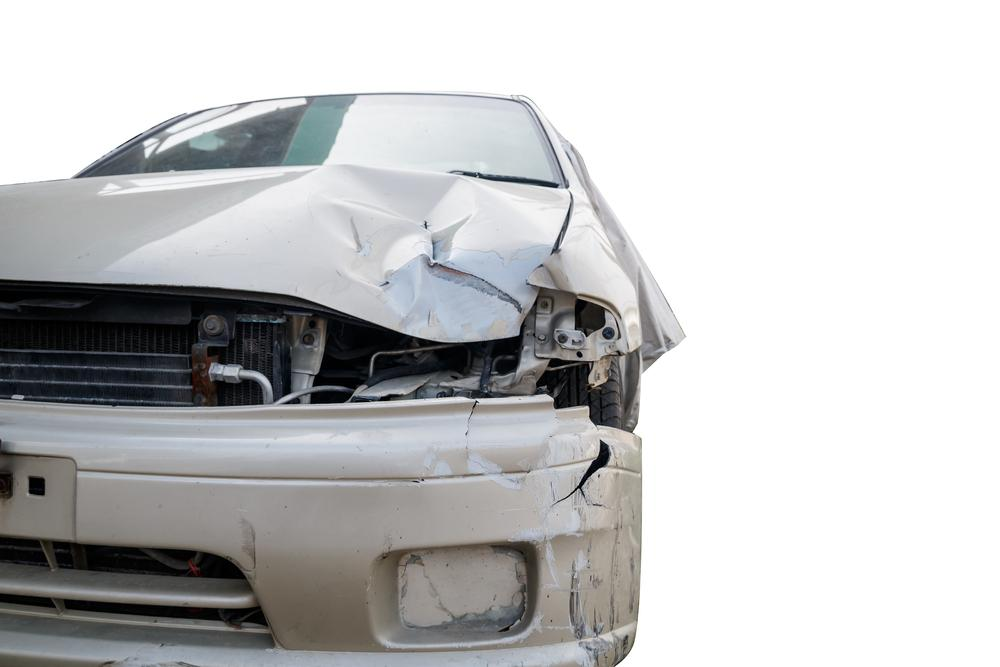crack: (547, 439, 610, 511), (465, 400, 480, 463)
dent: (312, 167, 552, 338)
scratch: (565, 458, 639, 667)
